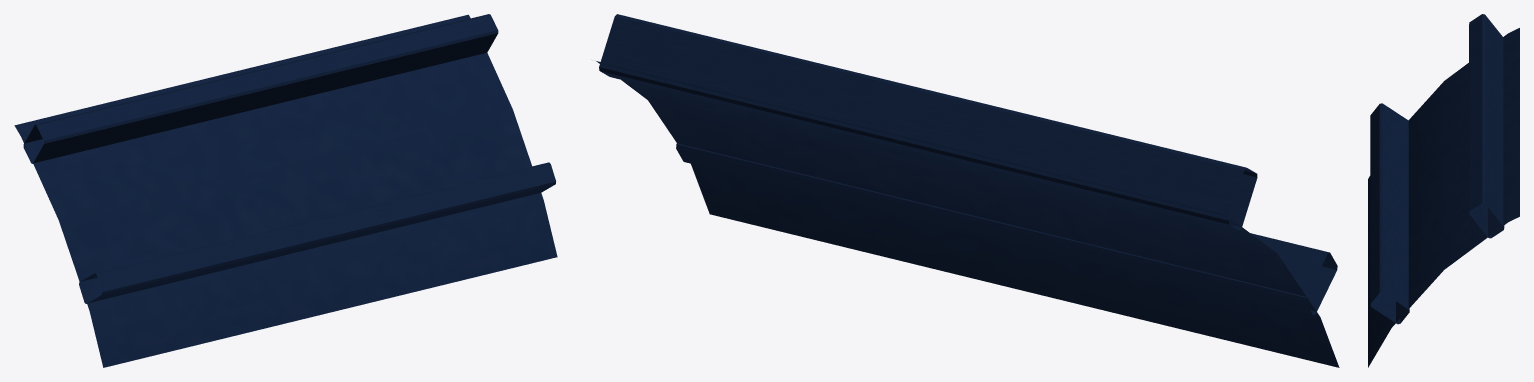
File: cell_69.obj
3 renders of one model, left to right at view 1: azimuth 30°, elevation 25°; view 2: azimuth 150°, elevation 25°; view 3: azimuth 270°, elevation 25°, orthographic. The views are drawn at different scales.
Parts seen in each view (by area): view 1: cell_69; view 2: cell_69; view 3: cell_69.
Part boxes in pixels (x1,y1,x2,y2): cell_69: [14, 14, 557, 367]; cell_69: [596, 14, 1339, 367]; cell_69: [1368, 14, 1519, 367].
Size of the model in its own units: 1 by 0.407 by 0.3393.
